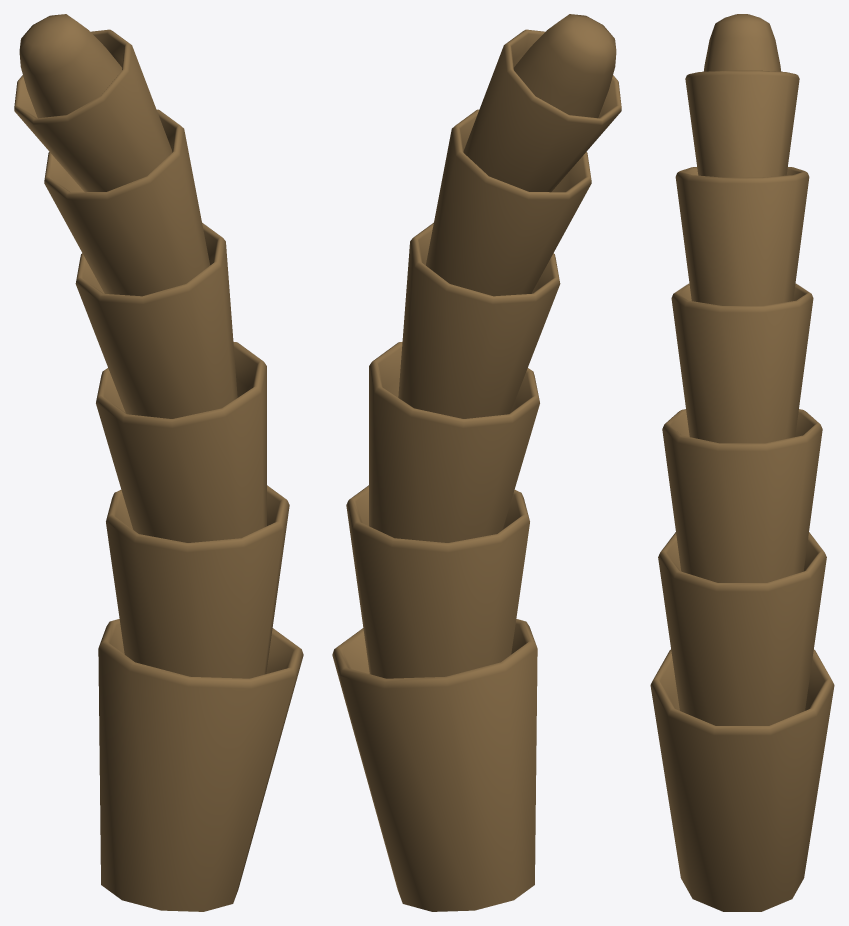
The model's file is palm-stem-1.obj.
The picture shows the model from 3 angles, left to right: view 1: azimuth 30°, elevation 25°; view 2: azimuth 150°, elevation 25°; view 3: azimuth 270°, elevation 25°; orthographic projection. The views are drawn at different scales.
Parts seen in each view (by area): view 1: Segment_Cylinder, Segment_Cylinder.001, Segment_Cylinder.002, Segment_Cylinder.003, Segment_Cylinder.004, Segment_Cylinder.005, StemTop_Segment_Cylinder_StemTop_Segment_Cylinder.004; view 2: Segment_Cylinder, Segment_Cylinder.001, Segment_Cylinder.002, Segment_Cylinder.003, Segment_Cylinder.004, Segment_Cylinder.005, StemTop_Segment_Cylinder_StemTop_Segment_Cylinder.004; view 3: Segment_Cylinder, Segment_Cylinder.001, Segment_Cylinder.002, Segment_Cylinder.003, Segment_Cylinder.004, Segment_Cylinder.005, StemTop_Segment_Cylinder_StemTop_Segment_Cylinder.004.
Boxes of the visible parts, x1,y1,x2,y2 form: Segment_Cylinder: [98, 619, 303, 911]; Segment_Cylinder.001: [106, 485, 289, 678]; Segment_Cylinder.002: [96, 341, 266, 542]; Segment_Cylinder.003: [75, 222, 237, 418]; Segment_Cylinder.004: [44, 109, 209, 296]; Segment_Cylinder.005: [14, 29, 172, 192]; StemTop_Segment_Cylinder_StemTop_Segment_Cylinder.004: [19, 14, 122, 118]; Segment_Cylinder: [332, 619, 537, 911]; Segment_Cylinder.001: [346, 485, 529, 678]; Segment_Cylinder.002: [369, 341, 539, 542]; Segment_Cylinder.003: [398, 222, 560, 418]; Segment_Cylinder.004: [426, 109, 591, 296]; Segment_Cylinder.005: [463, 29, 621, 192]; StemTop_Segment_Cylinder_StemTop_Segment_Cylinder.004: [513, 14, 616, 118]; Segment_Cylinder: [650, 649, 834, 911]; Segment_Cylinder.001: [658, 532, 826, 725]; Segment_Cylinder.002: [662, 409, 822, 582]; Segment_Cylinder.003: [671, 283, 813, 443]; Segment_Cylinder.004: [675, 167, 809, 305]; Segment_Cylinder.005: [685, 70, 799, 177]; StemTop_Segment_Cylinder_StemTop_Segment_Cylinder.004: [703, 14, 781, 71].
Size of the model in its own units: 1.22 by 3.98 by 0.8098.
